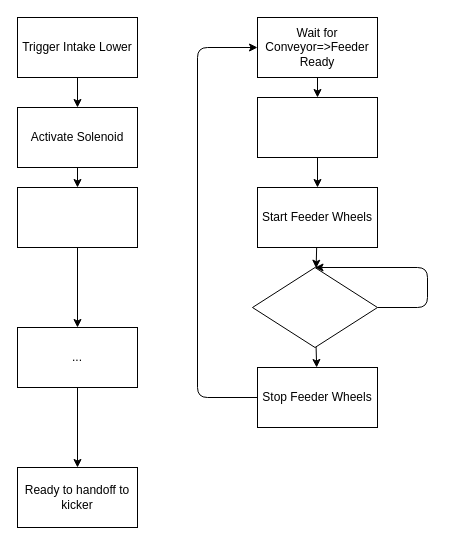
This 453x545 diagram has some shape labels left out. Here are the shapes that lost their labels. From the top down, the centre of each, then its label:
At (x=317, y=127): "Wait for Feeder=>Flywheel Ready".
At (x=77, y=217): "Once lowered, start motor".
At (x=315, y=307): "Is Ball In Flywheel".
